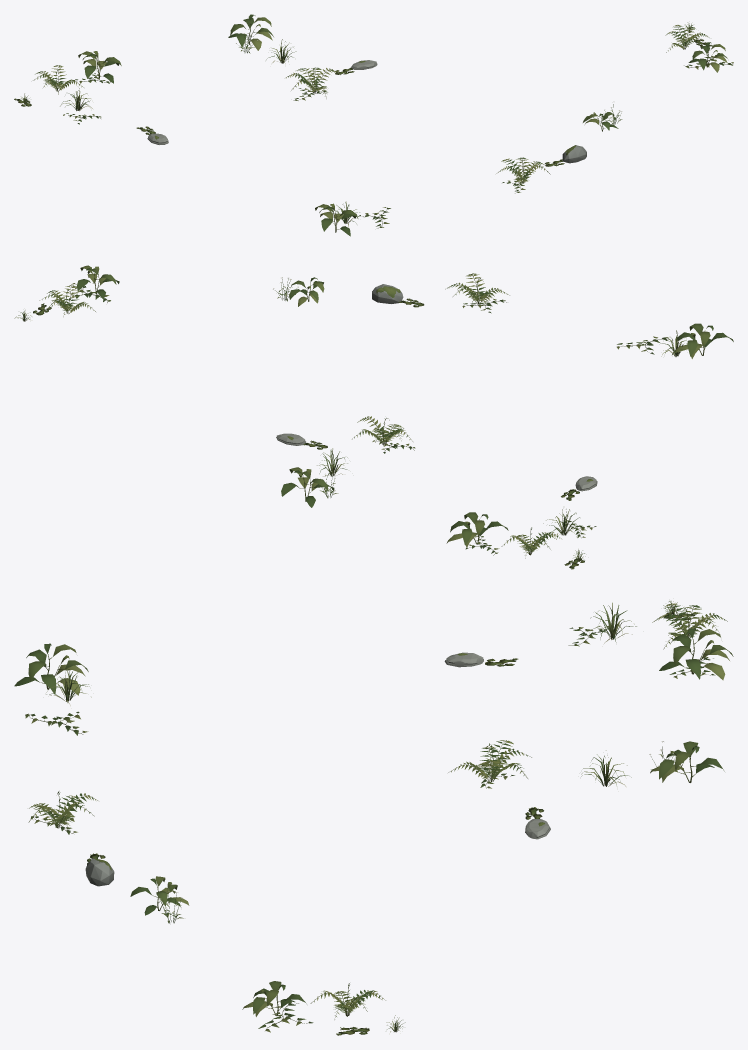
Rendered from dressing_stage17.glb.
The picture shows the model from 3 angles, top to bottom: view 1: azimuth 30°, elevation 25°; view 2: azimuth 150°, elevation 25°; view 3: azimuth 270°, elevation 25°; orthographic projection. The views are drawn at different scales.
Visible parts, largest first — view 1: stage1_dressing_foliage, stage1_dressing_rocks; view 2: stage1_dressing_foliage, stage1_dressing_rocks; view 3: stage1_dressing_foliage, stage1_dressing_rocks.
Boxes of the visible parts, left/top/right/bottom form: stage1_dressing_foliage: left=14, top=14, right=733, bottom=236; stage1_dressing_rocks: left=147, top=60, right=586, bottom=163; stage1_dressing_foliage: left=14, top=265, right=733, bottom=569; stage1_dressing_rocks: left=276, top=284, right=597, bottom=491; stage1_dressing_foliage: left=14, top=601, right=733, bottom=1035; stage1_dressing_rocks: left=85, top=652, right=550, bottom=886.
Size of the model in its own units: 9.24 by 0.4278 by 6.57.
